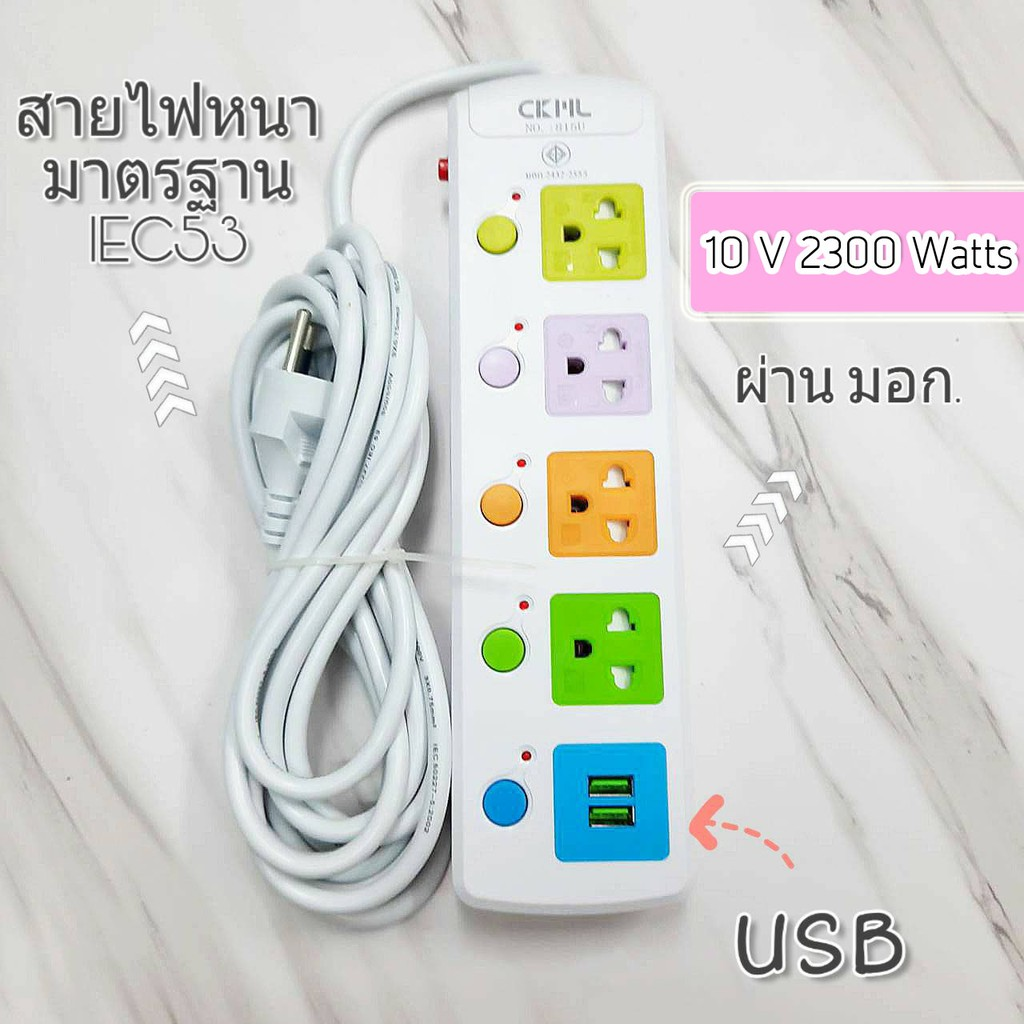Three_eye_plug: (411, 56, 707, 944)
